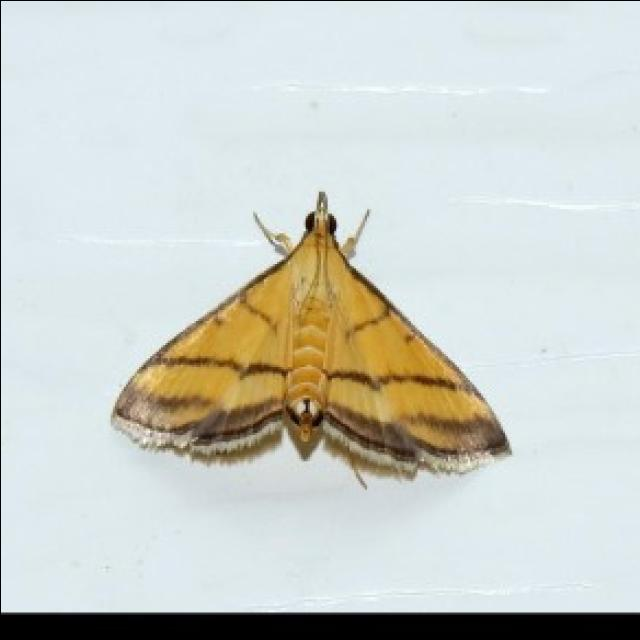rice leaf roller: (112, 191, 506, 473)
